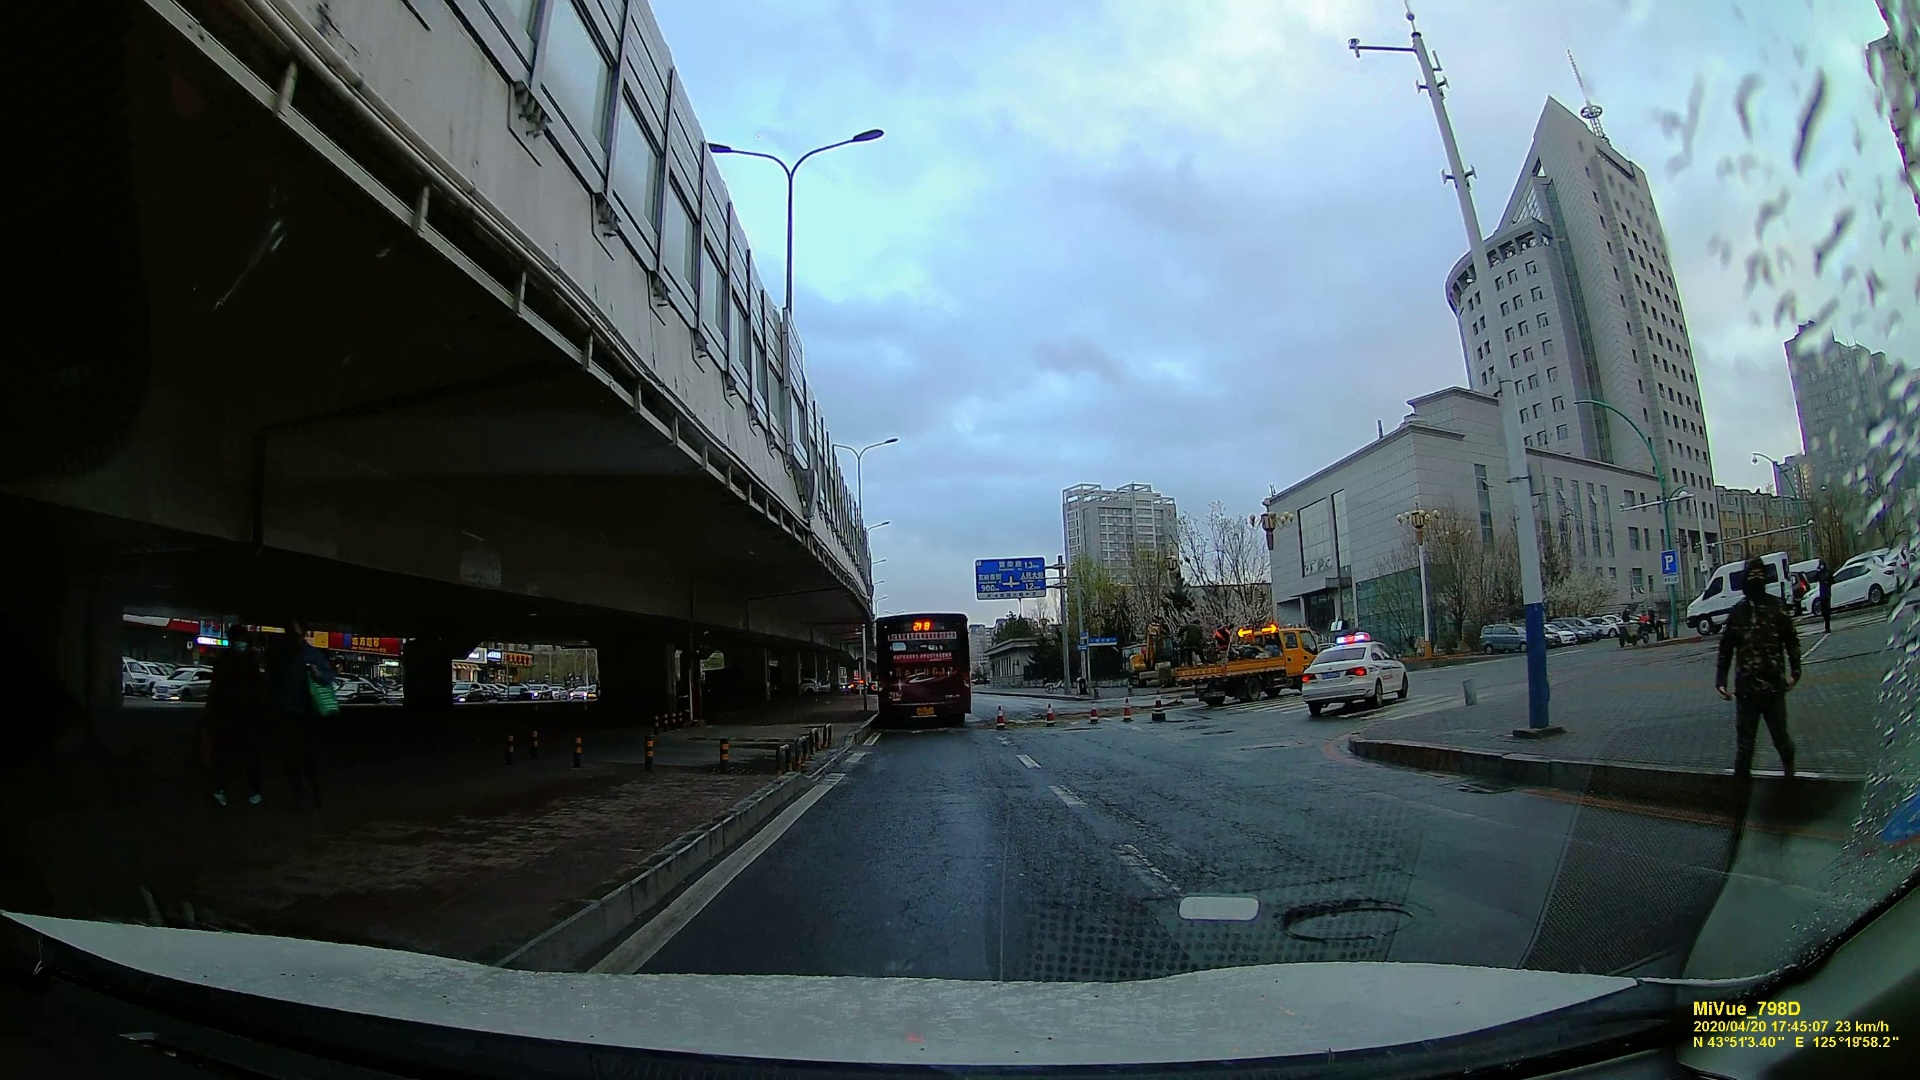bus: (876, 612, 973, 727)
traffic_sign: (978, 556, 1046, 597)
vehicle: (1714, 560, 1807, 785), (1303, 637, 1414, 713)
